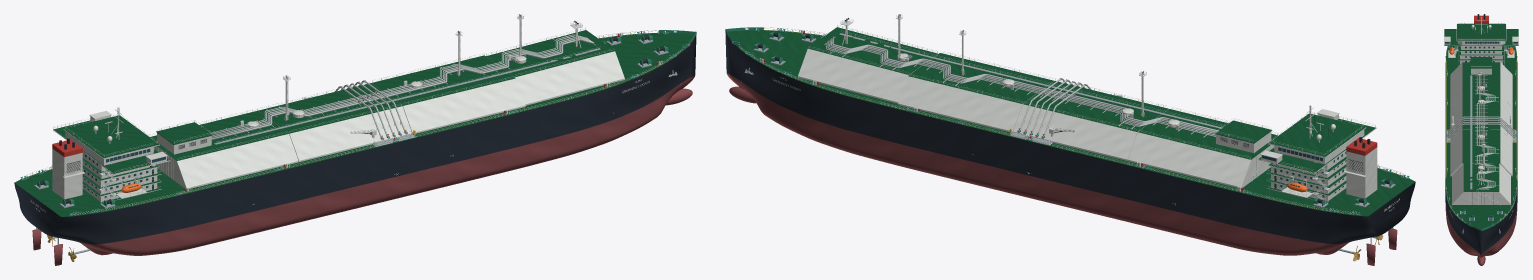
The model's file is lng-changheng-ship-lod2.glb.
3 renders of one model, left to right at view 1: azimuth 30°, elevation 25°; view 2: azimuth 150°, elevation 25°; view 3: azimuth 270°, elevation 25°, orthographic. The views are drawn at different scales.
Parts seen in each view (by area): view 1: Hull.shell, Cargo.Tank2.trunk, Cargo.Tank3.trunk, Cargo.Tank4.trunk, Cargo.Tank1.trunk, Piping.insulated-main-lines, House.external-decks, House.structure, Deck.perimeter-rails, Piping.grating-supports, Cargo.roof-rails, House.deck-overhangs (+12 smaller); view 2: Hull.shell, Cargo.Tank2.trunk, Cargo.Tank4.trunk, Cargo.Tank3.trunk, Cargo.Tank1.trunk, Piping.insulated-main-lines, House.external-decks, House.structure, Deck.perimeter-rails, Piping.grating-supports, Cargo.roof-rails, House.deck-overhangs (+11 smaller); view 3: Hull.shell, Cargo.Tank1.trunk, Cargo.Tank2.trunk, Cargo.Tank3.trunk, Cargo.Tank4.trunk, Piping.insulated-main-lines, House.external-decks, House.structure, House.deck-overhangs, Piping.grating-supports, Deck.perimeter-rails, Cargo.compressor-roof (+15 smaller).
Boxes of the visible parts, x1,y1,x2,y2 form: Hull.shell: [14, 32, 696, 255]; Cargo.Tank2.trunk: [371, 55, 525, 133]; Cargo.Tank3.trunk: [258, 83, 412, 162]; Cargo.Tank4.trunk: [150, 111, 298, 189]; Cargo.Tank1.trunk: [486, 30, 624, 105]; Piping.insulated-main-lines: [210, 34, 594, 139]; House.external-decks: [53, 115, 169, 203]; House.structure: [82, 115, 166, 201]; Deck.perimeter-rails: [20, 20, 682, 214]; Piping.grating-supports: [214, 48, 600, 146]; Cargo.roof-rails: [148, 27, 612, 159]; House.deck-overhangs: [49, 111, 170, 200]; Hull.shell: [725, 30, 1415, 255]; Cargo.Tank2.trunk: [898, 53, 1053, 132]; Cargo.Tank4.trunk: [1128, 109, 1277, 188]; Cargo.Tank3.trunk: [1013, 81, 1168, 160]; Cargo.Tank1.trunk: [798, 27, 937, 103]; Piping.insulated-main-lines: [826, 36, 1218, 136]; House.external-decks: [1259, 113, 1375, 202]; House.structure: [1261, 113, 1346, 201]; Deck.perimeter-rails: [739, 18, 1409, 214]; Piping.grating-supports: [839, 33, 1222, 144]; Cargo.roof-rails: [808, 25, 1280, 178]; House.deck-overhangs: [1258, 109, 1379, 199]; Hull.shell: [1445, 46, 1517, 265]; Cargo.Tank1.trunk: [1452, 163, 1510, 204]; Cargo.Tank2.trunk: [1450, 129, 1512, 176]; Cargo.Tank3.trunk: [1450, 95, 1512, 141]; Cargo.Tank4.trunk: [1450, 62, 1512, 107]; Piping.insulated-main-lines: [1447, 74, 1515, 189]; House.external-decks: [1444, 24, 1518, 65]; House.structure: [1444, 42, 1518, 63]; House.deck-overhangs: [1444, 24, 1518, 65]; Piping.grating-supports: [1446, 75, 1516, 189]; Deck.perimeter-rails: [1445, 46, 1517, 222]; Cargo.compressor-roof: [1470, 57, 1492, 68].
Bounding box in the file's own units: 299 × 58.45 × 48.2.
Materials: 16 (5 with a texture image).
